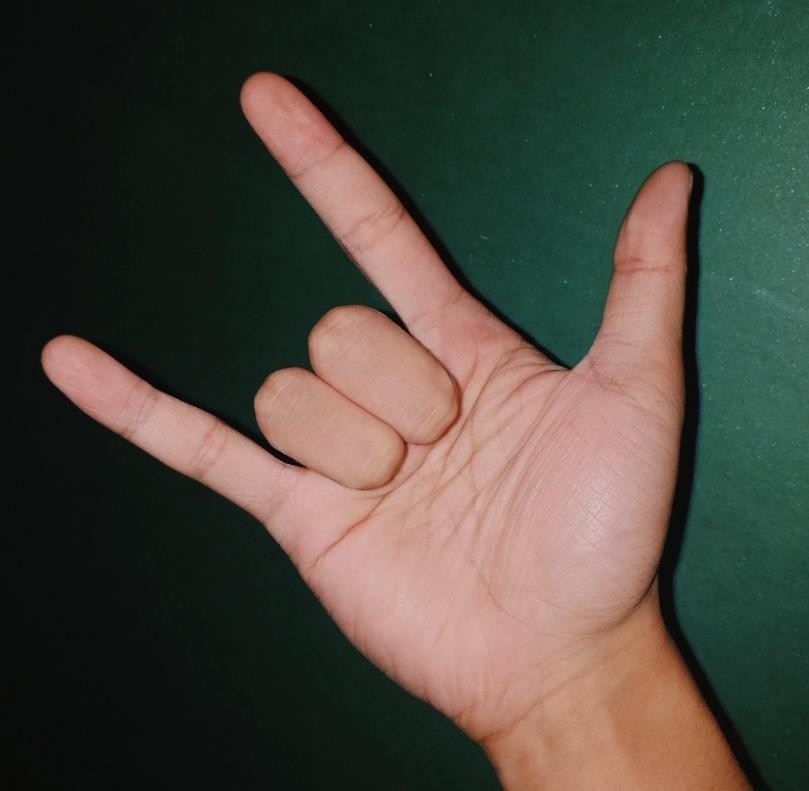back: (31, 66, 700, 660)
